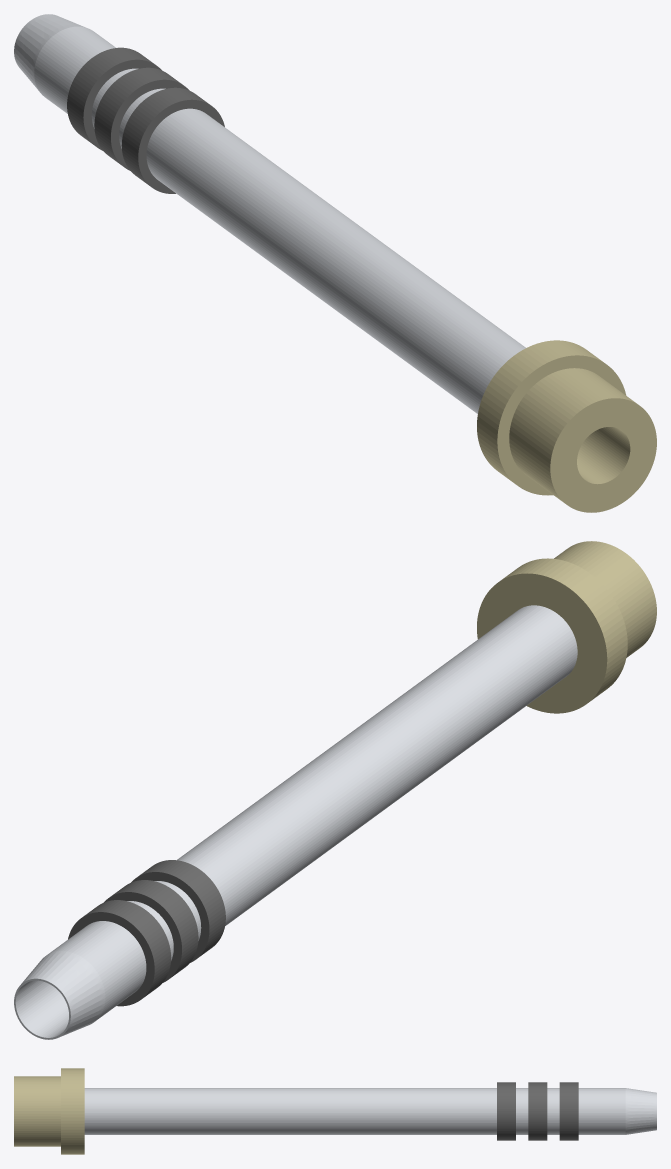
File: WH-TREESAVER.glb
The picture shows the model from 3 angles, top to bottom: view 1: azimuth 30°, elevation 25°; view 2: azimuth 150°, elevation 25°; view 3: azimuth 270°, elevation 25°; orthographic projection. The views are drawn at different scales.
Parts seen in each view (by area): view 1: WH-TREESAVER-MANDREL, WH-TREESAVER-SHOULDER, WH-TREESAVER-SEAL; view 2: WH-TREESAVER-MANDREL, WH-TREESAVER-SHOULDER, WH-TREESAVER-SEAL; view 3: WH-TREESAVER-MANDREL, WH-TREESAVER-SHOULDER, WH-TREESAVER-SEAL.
Part boxes in pixels (<box>): WH-TREESAVER-MANDREL: <box>14,14,525,413</box>; WH-TREESAVER-SHOULDER: <box>477,340,656,512</box>; WH-TREESAVER-SEAL: <box>67,47,224,193</box>; WH-TREESAVER-MANDREL: <box>14,605,577,1039</box>; WH-TREESAVER-SHOULDER: <box>477,541,656,713</box>; WH-TREESAVER-SEAL: <box>68,860,225,1006</box>; WH-TREESAVER-MANDREL: <box>84,1088,656,1134</box>; WH-TREESAVER-SHOULDER: <box>14,1068,84,1154</box>; WH-TREESAVER-SEAL: <box>497,1082,578,1140</box>.
Size of the model in its own units: 0.2794 by 0.2794 by 2.08.
